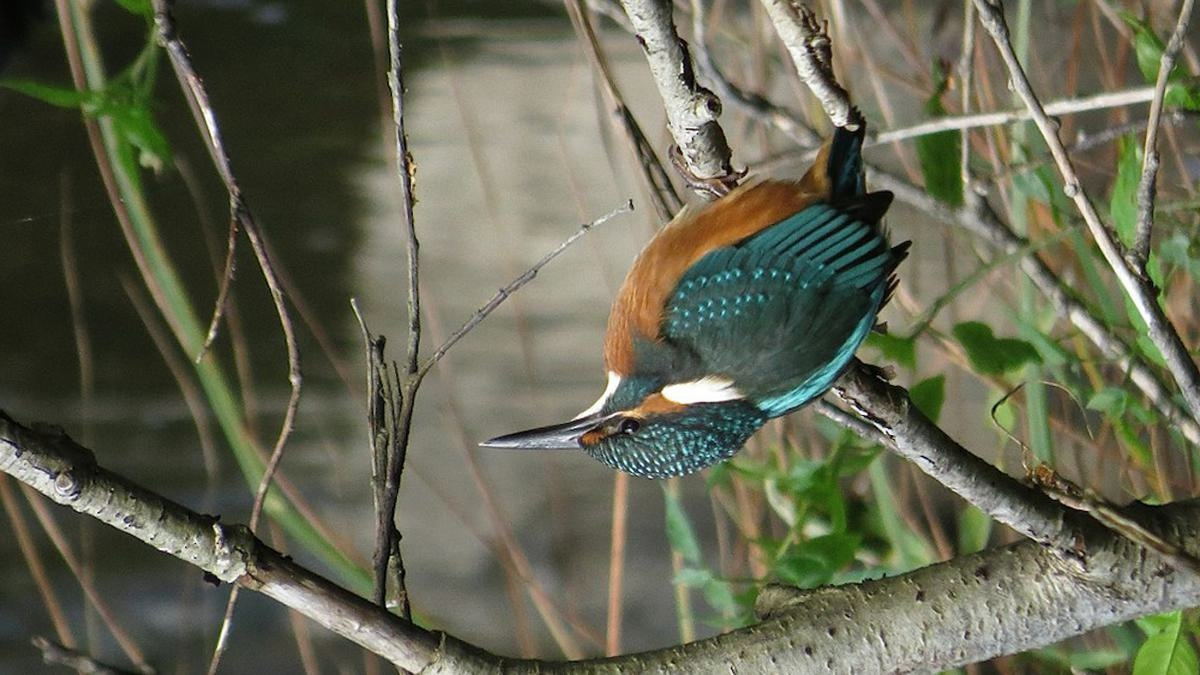kingfisher: (468, 115, 911, 471)
